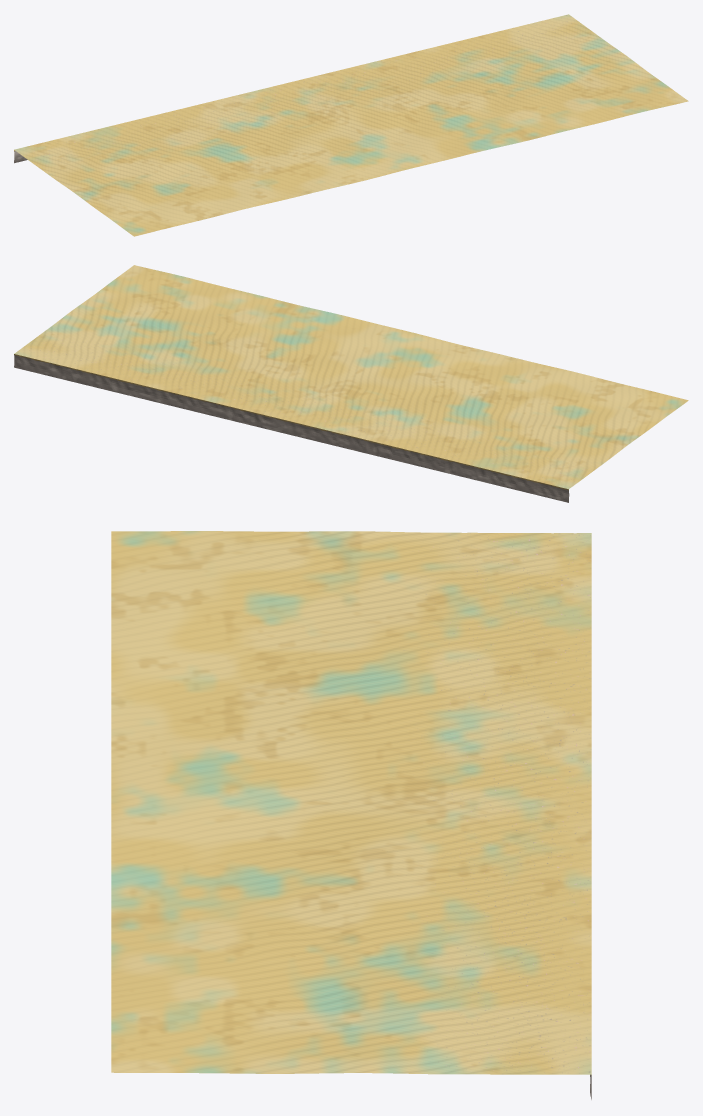
Rendered from CC_B07_SandFloor.fbx.
3 renders of one model, top to bottom at view 1: azimuth 30°, elevation 25°; view 2: azimuth 150°, elevation 25°; view 3: azimuth 270°, elevation 25°, orthographic. The views are drawn at different scales.
Parts seen in each view (by area): view 1: CC_B07_SandFloor; view 2: CC_B07_SandFloor; view 3: CC_B07_SandFloor.
Boxes of the visible parts, x1,y1,x2,y2 form: CC_B07_SandFloor: [14, 14, 688, 236]; CC_B07_SandFloor: [14, 265, 688, 502]; CC_B07_SandFloor: [111, 531, 591, 1099].
Bounding box in the file's own units: 40000 × 1046 × 15000.
